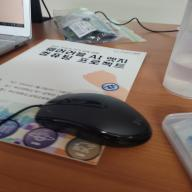mouse: (33, 81, 168, 151)
